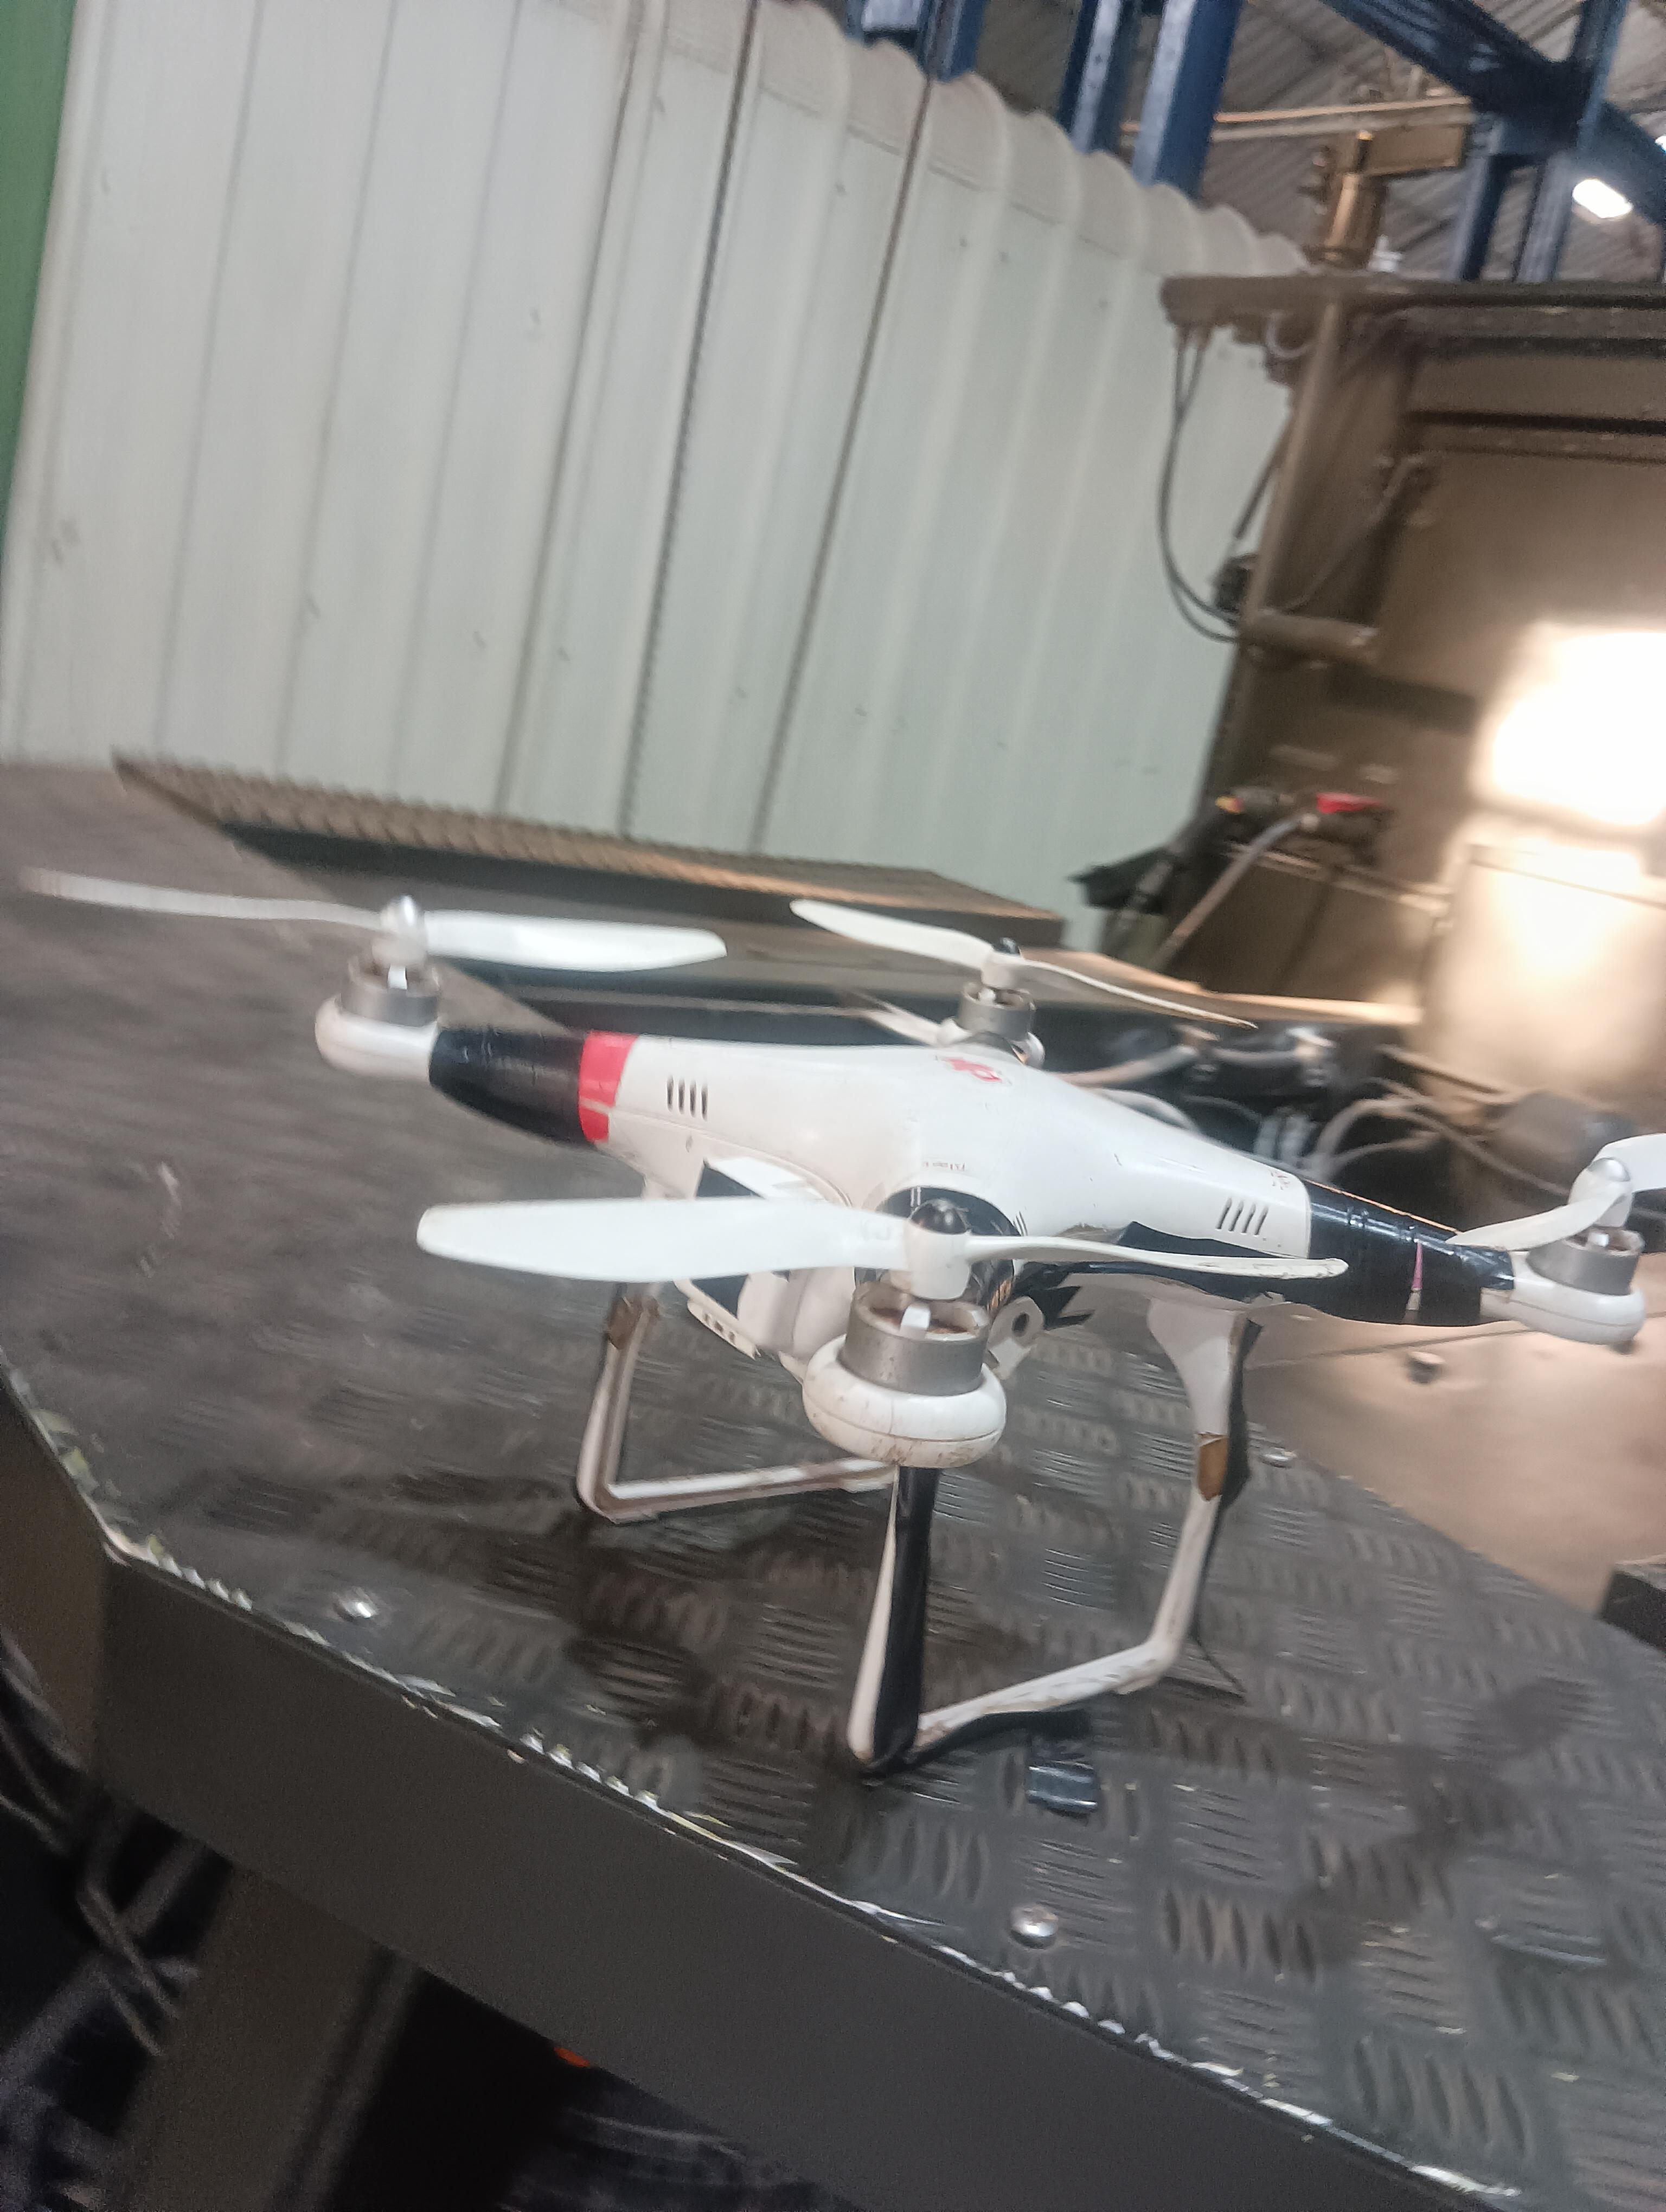drone: (2, 755, 1666, 1806)
